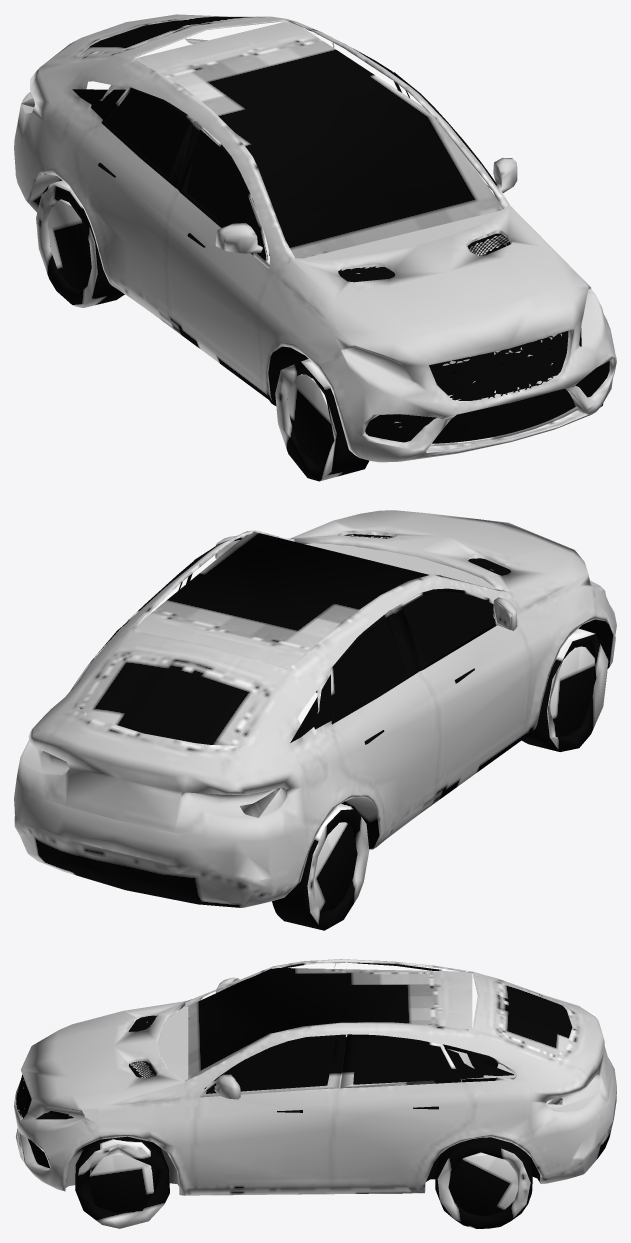
The model's file is crossover-mid.glb.
The picture shows the model from 3 angles, top to bottom: view 1: azimuth 30°, elevation 25°; view 2: azimuth 150°, elevation 25°; view 3: azimuth 270°, elevation 25°; orthographic projection. The views are drawn at different scales.
Parts seen in each view (by area): view 1: Object_2, Object_7, Object_4, wheelFR, Object_5, wheelRR, Object_6; view 2: Object_2, Object_7, Object_4, wheelRR, wheelFR, Object_5; view 3: Object_2, Object_7, Object_4, wheelFL, wheelRL, Object_5.
Boxes of the visible parts, x1,y1,x2,y2 form: Object_2: [14, 14, 616, 462]; Object_7: [130, 21, 572, 443]; Object_4: [101, 29, 578, 446]; wheelFR: [275, 359, 436, 481]; Object_5: [72, 89, 581, 400]; wheelRR: [36, 180, 124, 307]; Object_6: [432, 388, 575, 443]; Object_2: [14, 510, 616, 907]; Object_7: [134, 531, 511, 683]; Object_4: [70, 535, 517, 724]; wheelRR: [272, 803, 369, 930]; wheelFR: [522, 628, 608, 751]; Object_5: [290, 674, 384, 744]; Object_2: [14, 959, 616, 1195]; Object_7: [129, 968, 472, 1081]; Object_4: [18, 962, 516, 1147]; wheelFL: [27, 1136, 169, 1228]; wheelRL: [435, 1137, 532, 1228]; Object_5: [16, 1048, 513, 1119].
Bounding box in the file's own units: 1.98 × 1.59 × 4.6.
1 material, 1 textured.
